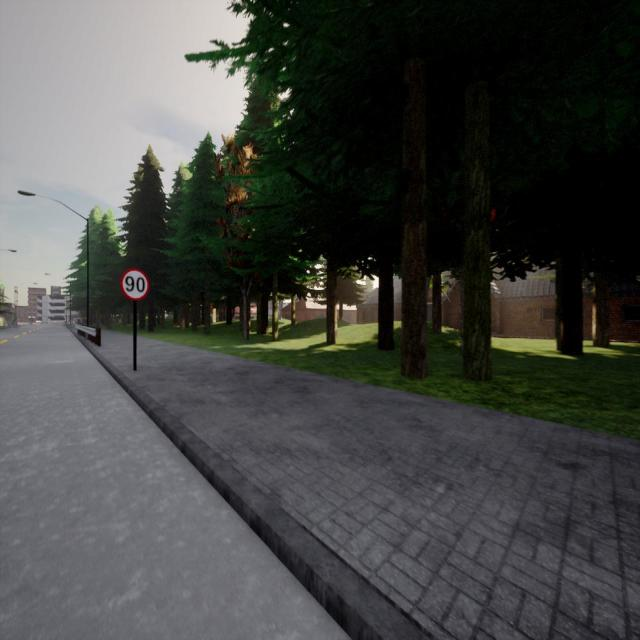Traffic_Signs: (120, 268, 149, 300)
